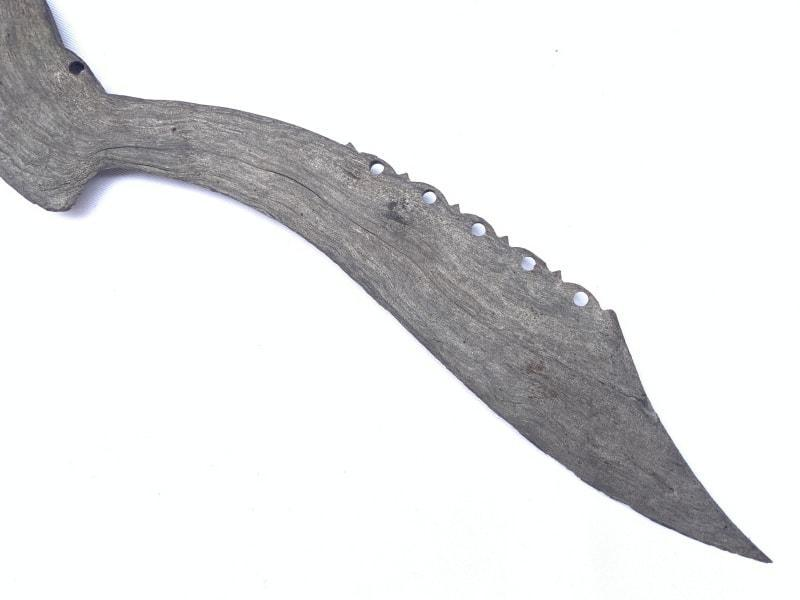facao: (0, 5, 785, 570)
